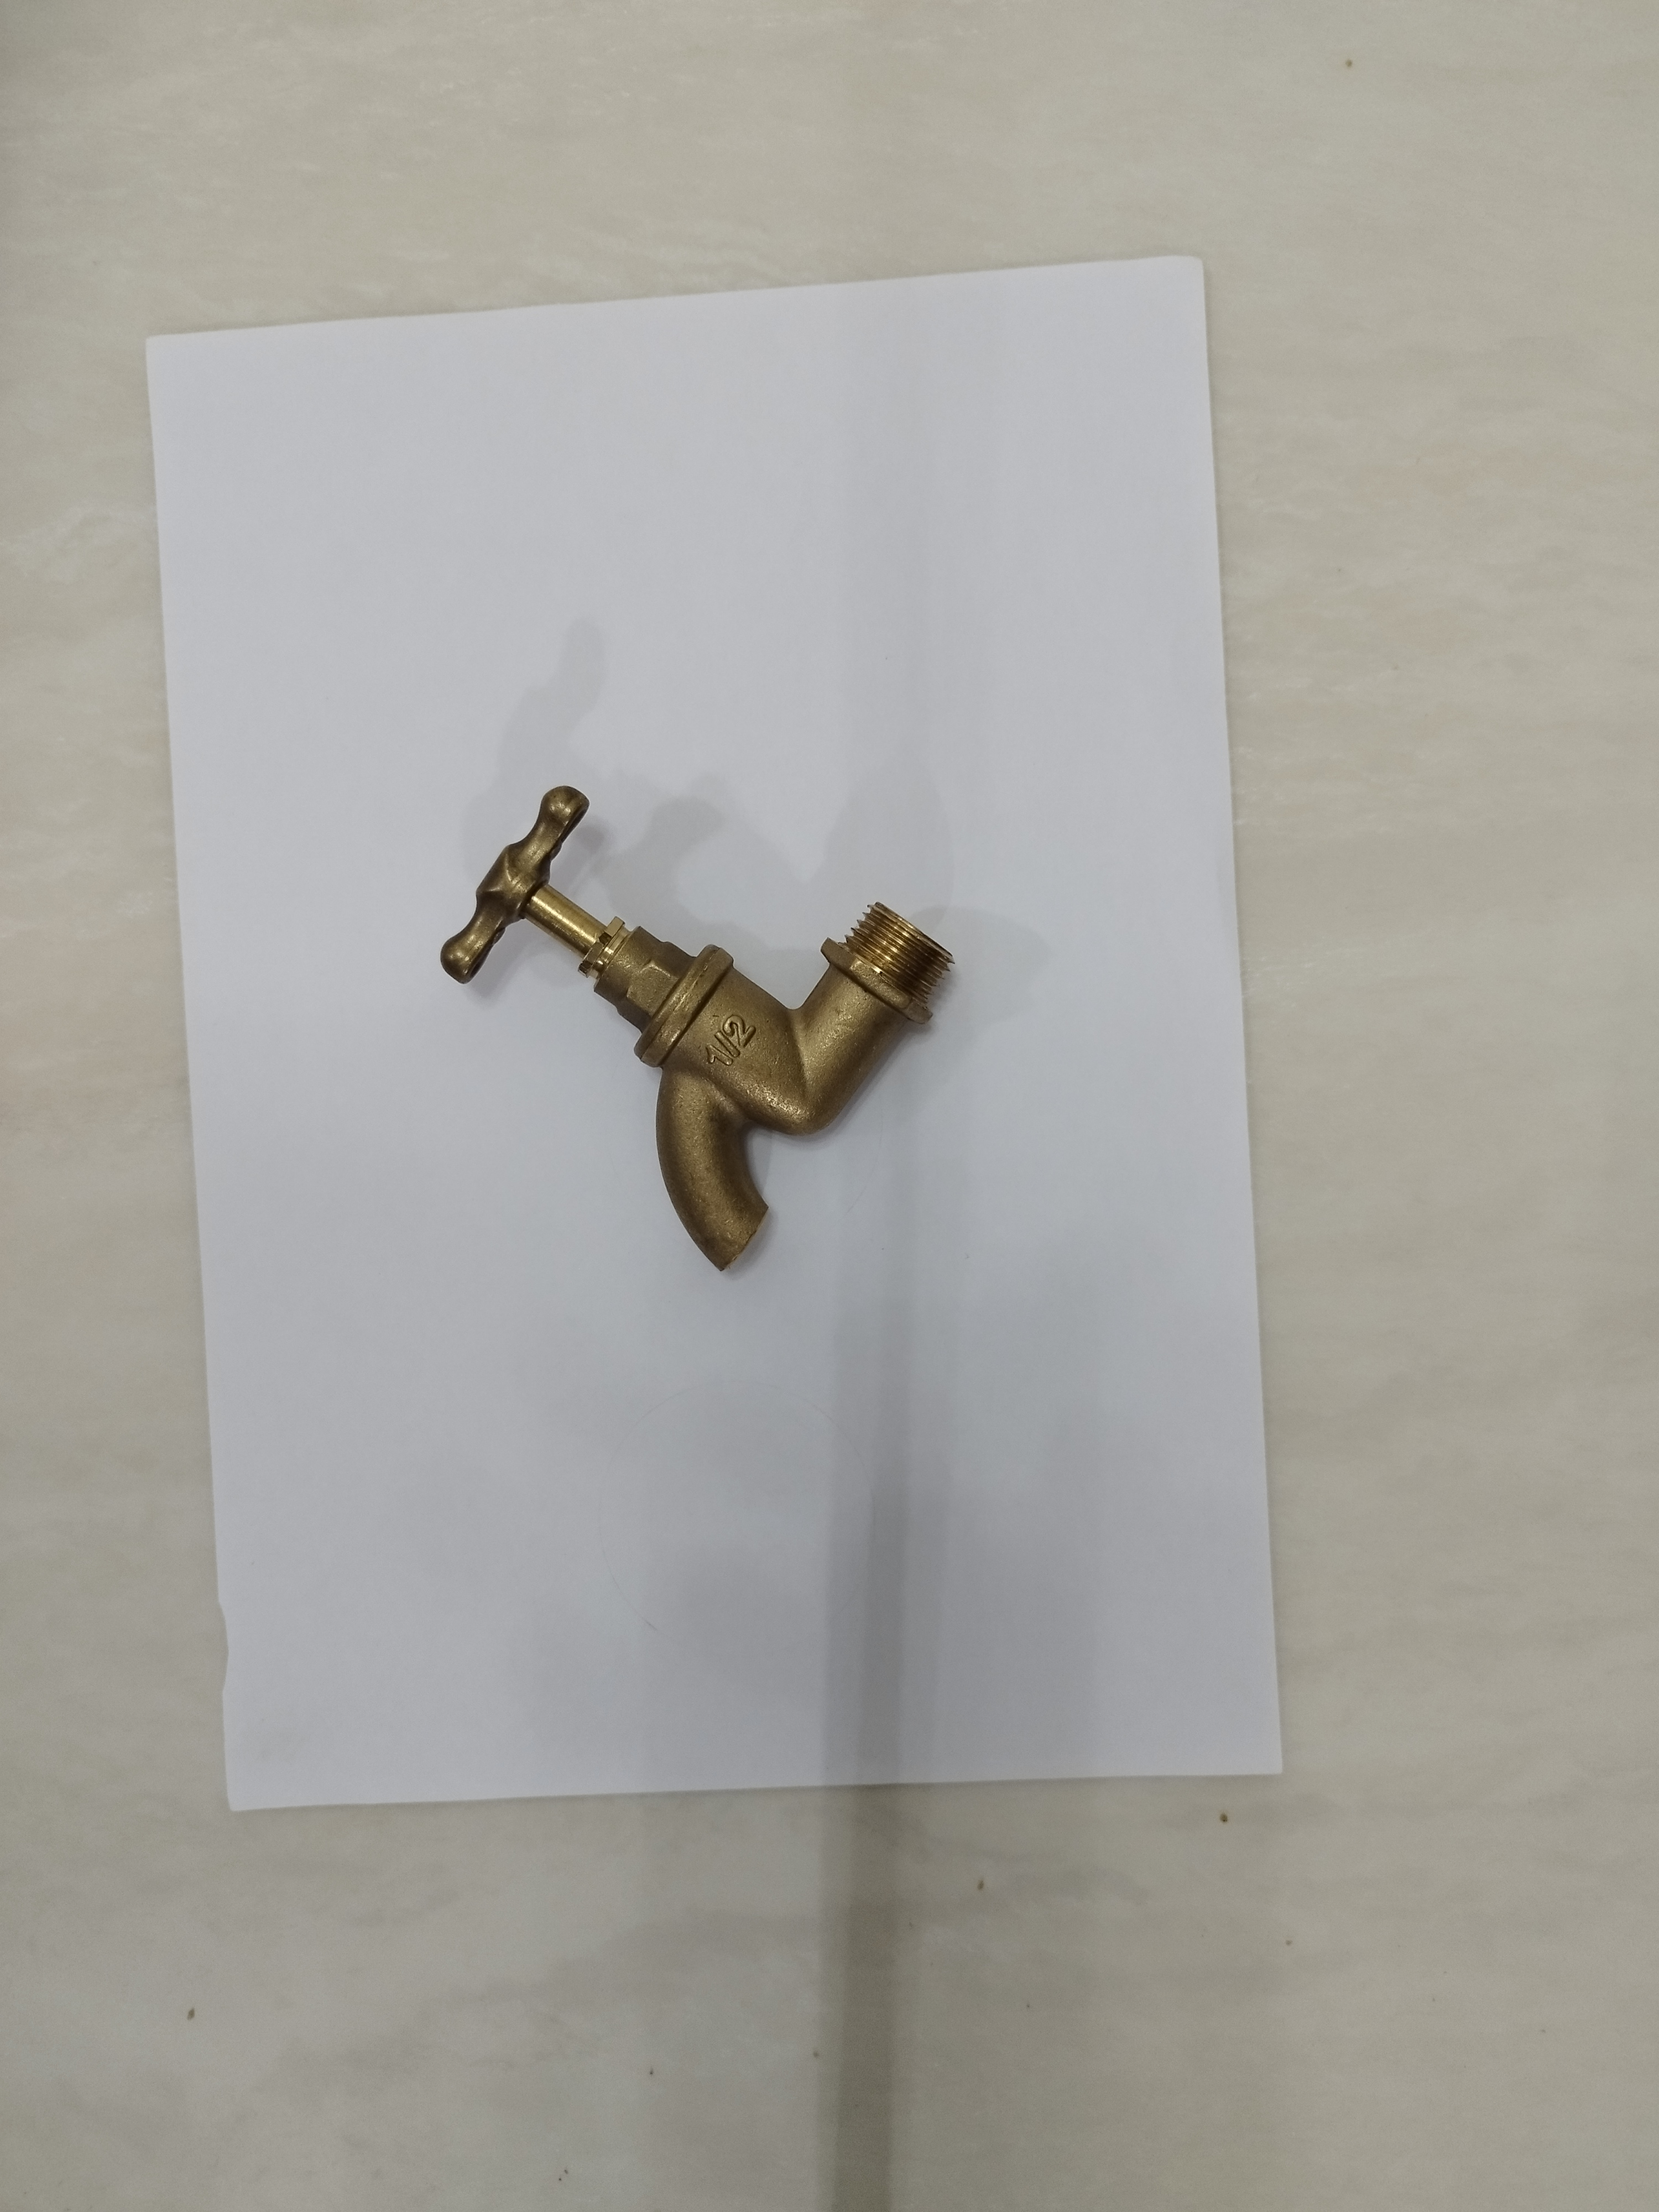brass_water_tap: (430, 772, 964, 1282)
